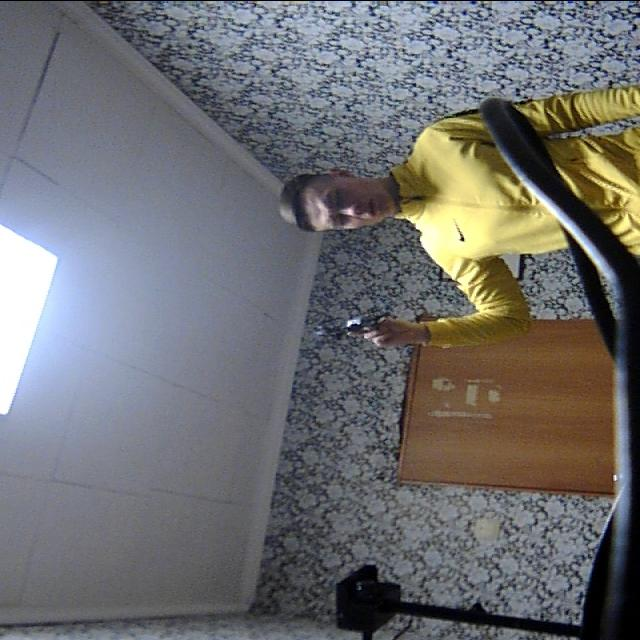drone: (307, 291, 401, 359)
